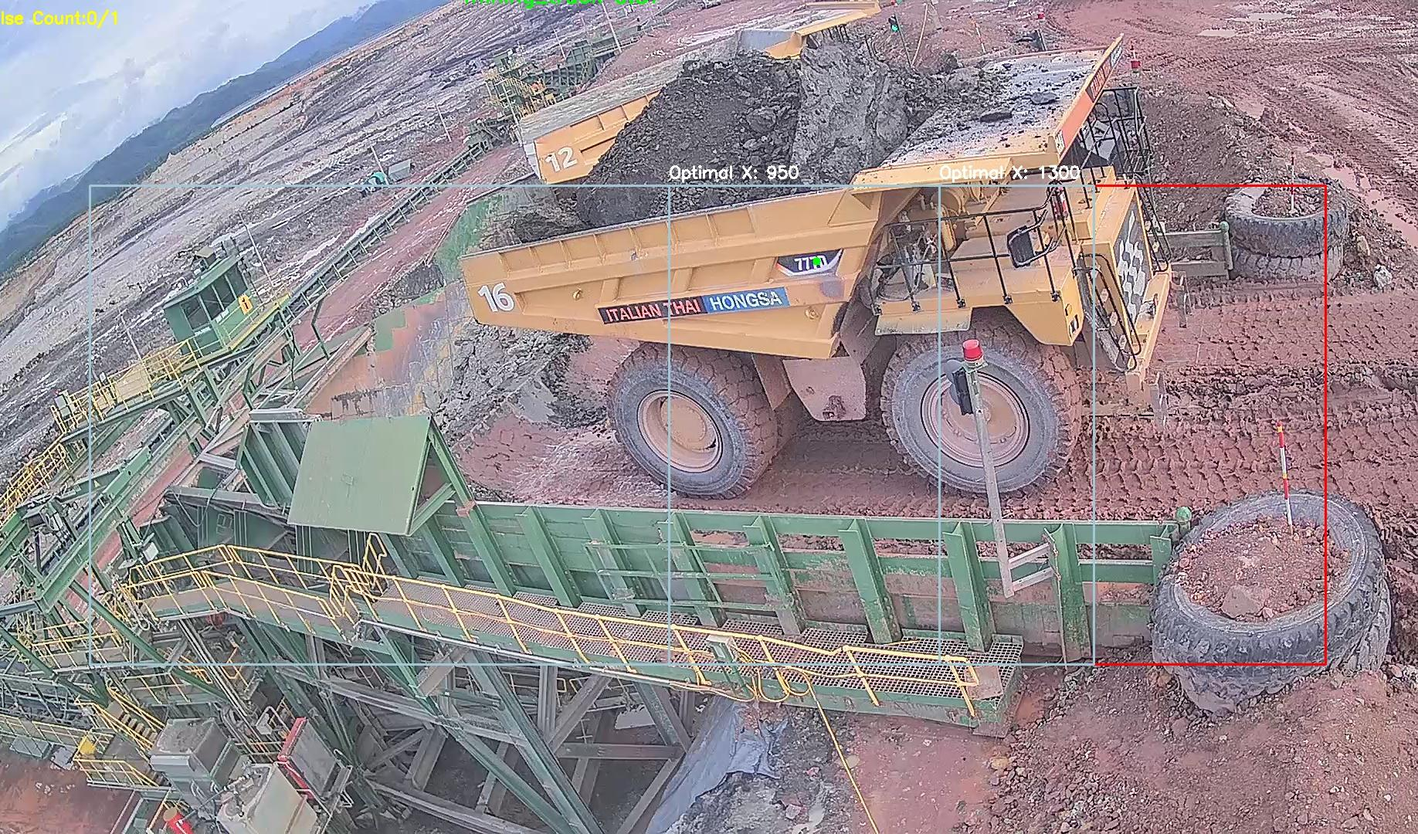company: (583, 279, 800, 323)
full_load: (606, 42, 919, 229)
mining_truck: (447, 23, 1193, 480)
tail_number: (474, 275, 517, 321)
truck_size: (770, 240, 842, 276)
